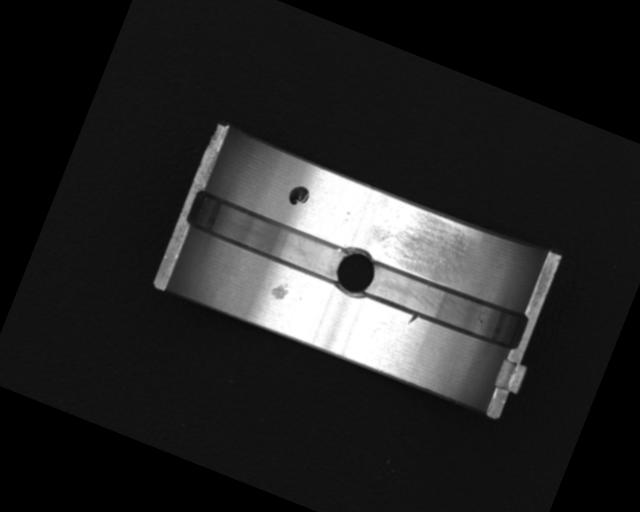blot: (285, 180, 313, 209)
bruise: (267, 279, 292, 304), (407, 312, 418, 326)
gap: (358, 254, 530, 357), (184, 187, 351, 285)
hole: (327, 242, 382, 301)
scratch: (361, 194, 481, 290)
